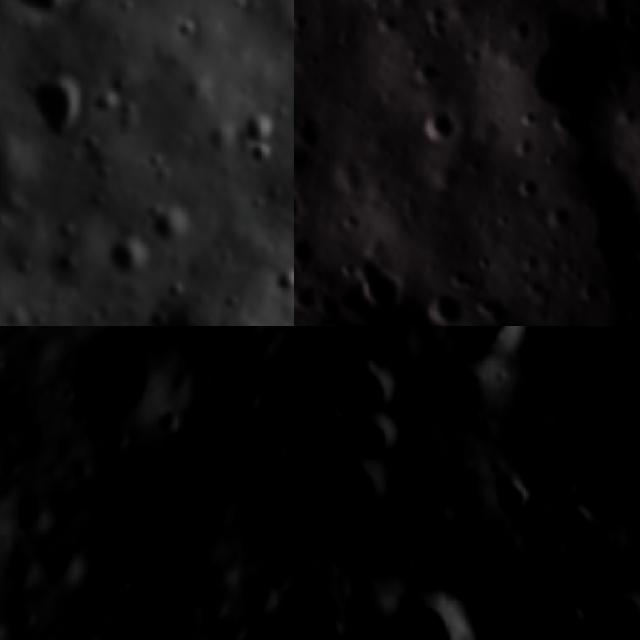crater: (488, 0, 639, 140), (57, 326, 184, 442), (419, 355, 493, 431), (18, 65, 91, 139), (380, 590, 487, 640), (442, 326, 542, 377), (344, 250, 416, 319), (323, 455, 380, 518), (410, 100, 475, 152), (235, 564, 282, 626), (136, 300, 245, 326), (44, 539, 94, 593), (0, 132, 39, 201), (104, 229, 156, 280), (339, 365, 401, 407), (146, 202, 198, 248), (337, 419, 403, 454), (235, 104, 286, 146), (590, 597, 640, 637), (226, 377, 268, 424), (178, 432, 218, 480), (2, 0, 97, 20), (424, 287, 468, 326), (234, 137, 281, 172), (492, 472, 526, 520), (294, 113, 327, 162), (197, 588, 237, 628), (548, 582, 578, 630), (86, 83, 123, 121), (554, 510, 591, 548), (304, 616, 364, 639), (578, 274, 612, 314), (294, 230, 325, 273), (170, 13, 205, 50), (294, 281, 328, 319), (413, 552, 450, 586), (0, 474, 16, 548), (509, 174, 545, 206), (204, 326, 289, 339), (133, 611, 171, 640), (420, 500, 451, 535), (269, 260, 294, 300), (586, 370, 623, 397), (545, 206, 574, 238), (51, 248, 77, 279), (449, 544, 480, 568), (294, 180, 308, 231), (325, 392, 354, 415), (391, 559, 411, 582), (116, 0, 138, 19), (574, 484, 595, 502), (193, 0, 230, 9), (332, 326, 364, 332)
